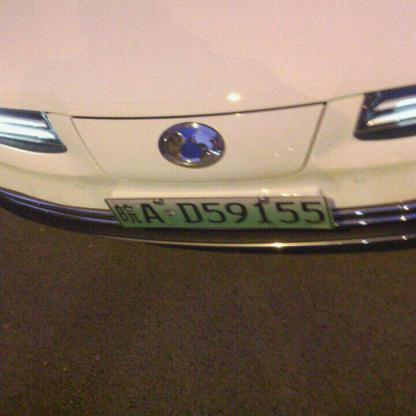lp: (104, 197, 332, 228)
